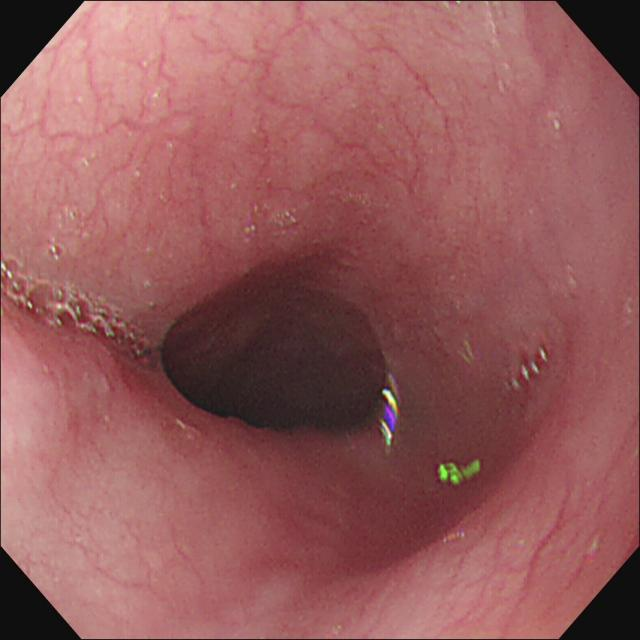E: (149, 260, 406, 464)
T: (2, 249, 155, 370), (45, 239, 67, 263)
U: (378, 385, 402, 451), (511, 350, 551, 388), (437, 459, 482, 486)
